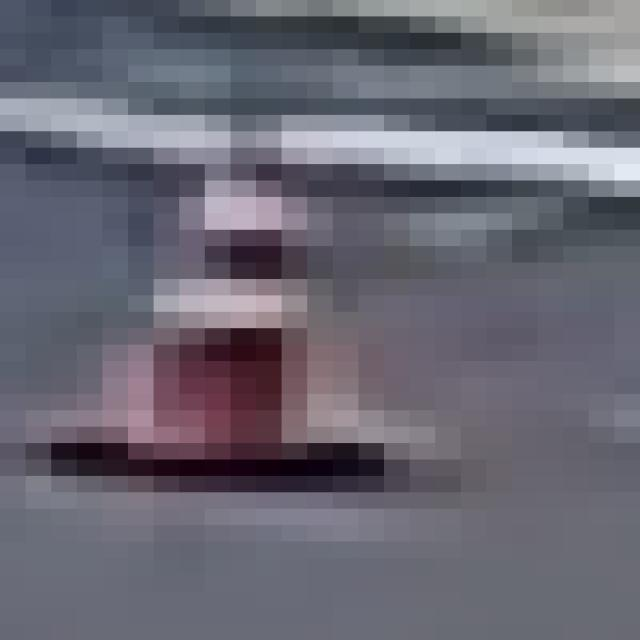small_cone: (20, 146, 484, 578)
